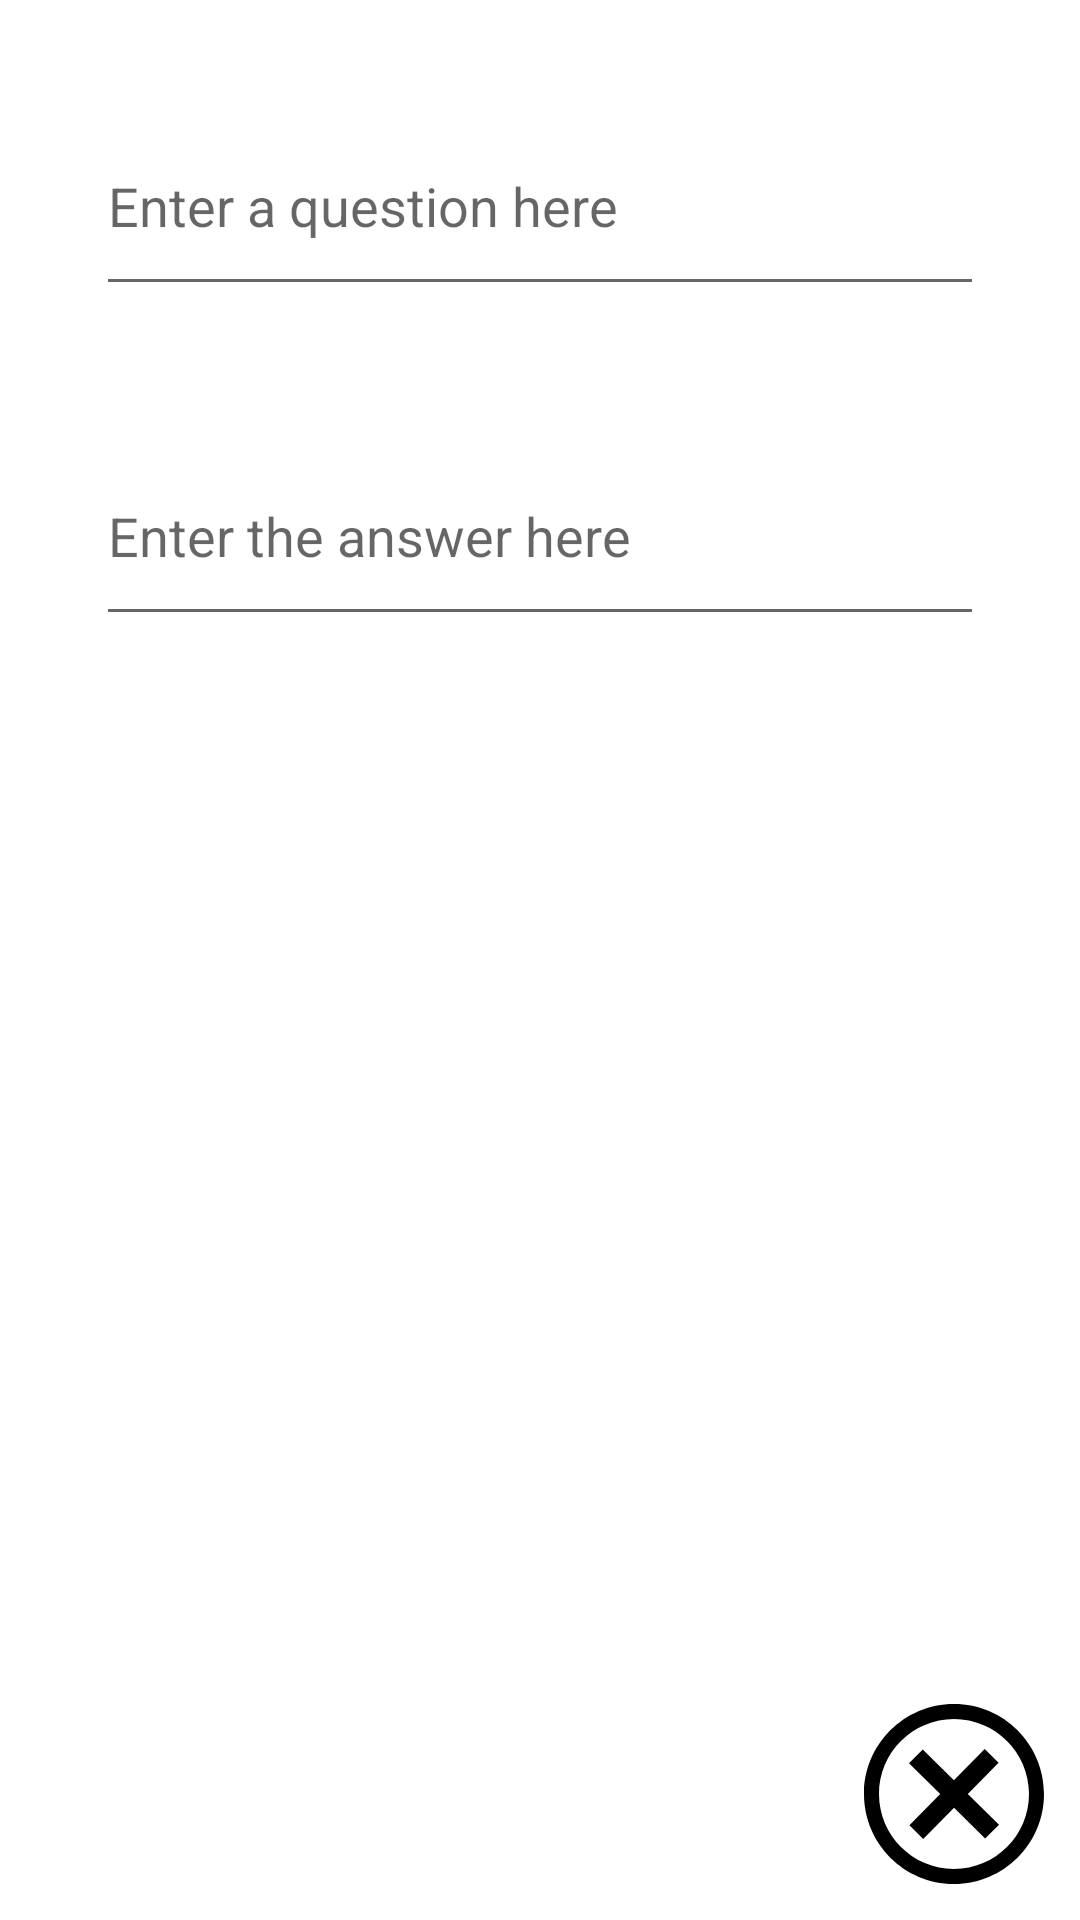

Named icons in this screenshot (1080x1920) and their centers, (x,y):
cancel: (954,1794)
